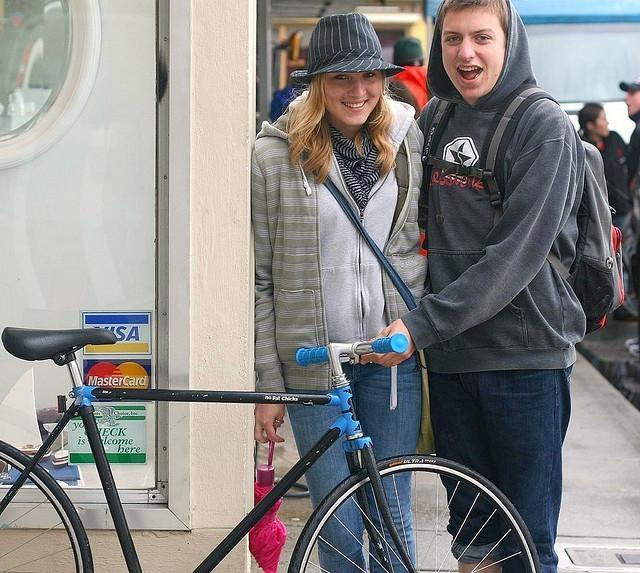bicycle: (0, 327, 544, 573)
